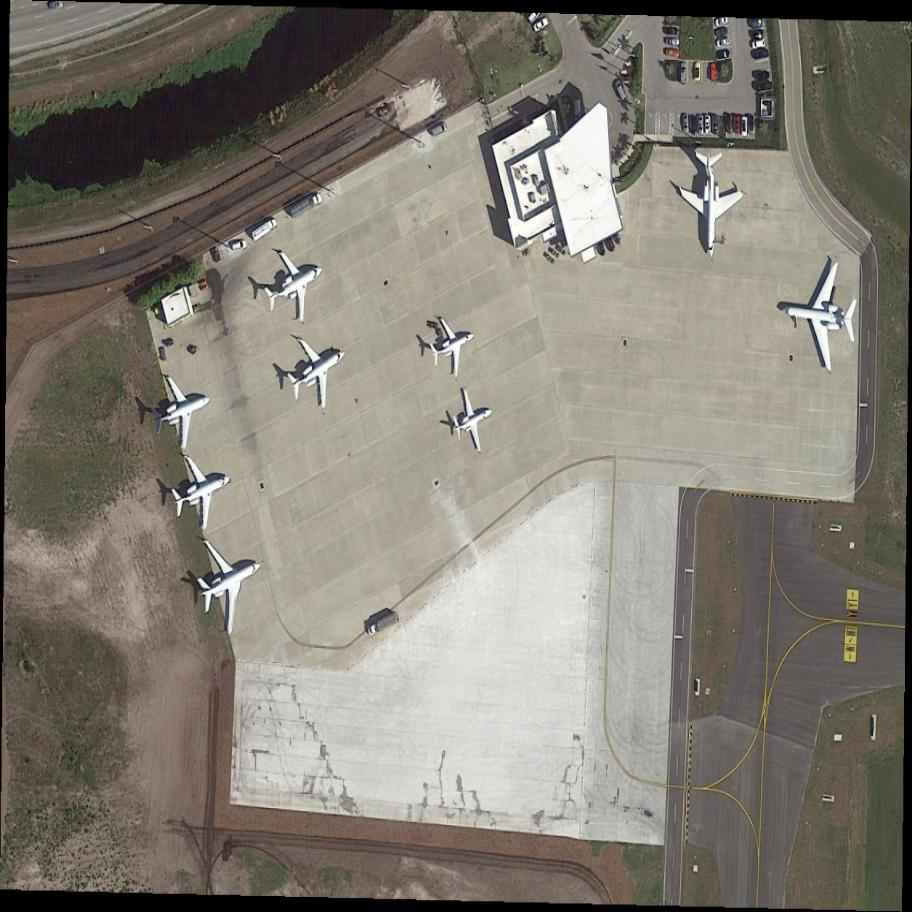large-vehicle: (288, 194, 326, 221), (365, 612, 402, 639), (248, 215, 280, 244)
plane: (182, 518, 278, 647), (782, 255, 861, 381), (276, 314, 359, 424), (253, 234, 336, 339), (160, 440, 242, 543), (142, 362, 221, 460), (676, 152, 744, 261), (422, 305, 485, 387), (443, 380, 502, 465)
small-vehicle: (609, 75, 632, 105), (529, 14, 554, 36), (711, 12, 732, 30), (429, 120, 450, 137), (610, 226, 625, 247), (680, 113, 692, 138), (604, 233, 618, 254), (750, 37, 768, 53), (746, 113, 758, 137), (751, 46, 770, 61), (595, 236, 607, 259), (678, 61, 689, 86), (662, 46, 681, 60), (723, 112, 735, 134), (751, 80, 773, 92), (230, 239, 249, 252), (663, 35, 680, 48), (661, 24, 679, 36), (693, 60, 702, 84), (740, 115, 749, 139), (708, 61, 718, 82), (716, 36, 733, 48), (714, 24, 731, 36), (752, 69, 770, 80), (716, 48, 732, 60), (733, 113, 741, 136), (749, 27, 764, 39), (711, 115, 719, 137), (698, 115, 706, 137), (705, 114, 711, 136)
